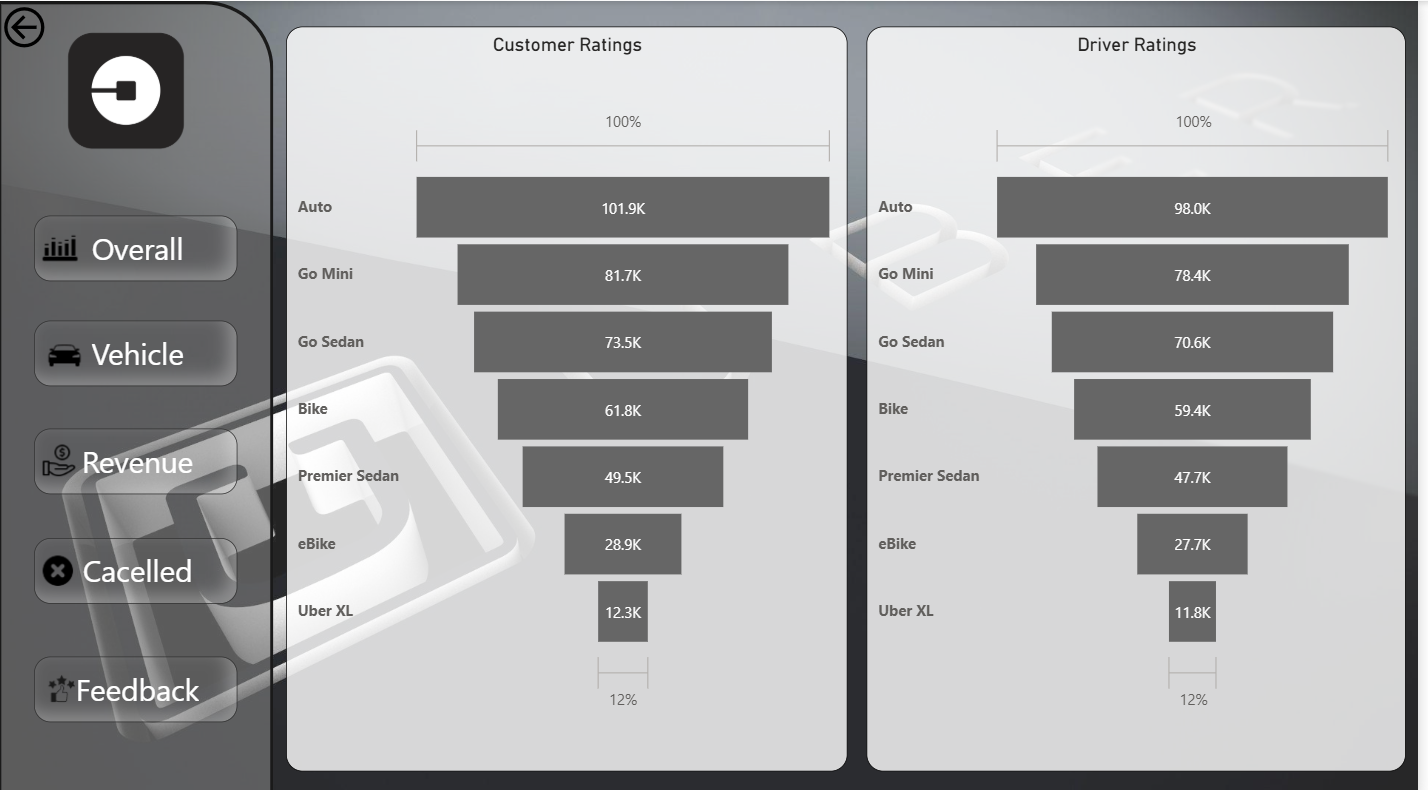

This screenshot's page, from the dashboard's own definition file:
{"tool":"powerbi","page":{"name":"Feedback","canvas":[1280,720],"ordinal":5},"visuals":[{"type":"shape","box":[0,0,248.3,719.2],"z":0},{"type":"image","box":[0,16.7,230.2,128.7],"z":1000},{"type":"actionButton","box":[31.8,193.8,183.2,59.1],"z":2000},{"type":"actionButton","box":[31.8,484.5,183.2,59.1],"z":3000},{"type":"actionButton","box":[31.8,287.7,183.2,59.1],"z":4000},{"type":"actionButton","box":[31.8,384.6,183.2,59.1],"z":5000},{"type":"actionButton","box":[31.8,590.5,183.2,59.1],"z":6000},{"type":"funnel","title":"Customer Ratings","fields":{"Y":["Sum(ncr_ride_bookings.Customer Rating)"],"Category":["ncr_ride_bookings.Vehicle Type"]},"box":[259.9,22.9,506,671.1],"z":7000},{"type":"funnel","title":"Driver Ratings","fields":{"Category":["ncr_ride_bookings.Vehicle Type"],"Y":["Sum(ncr_ride_bookings.Driver Ratings)"]},"box":[782.7,22.9,486.1,671.1],"z":8000},{"type":"actionButton","box":[0,0,114.7,47.4],"z":9000}]}

Visuals, with their boxes on the page's 1280x720 design canvas (x1, y1, x2, y2). These are canvas units, not pixel positions in the 1428x790 screenshot, which may show the page scaled, cropped or inside an application window:
shape: <bbox>0, 0, 248, 719</bbox>
image: <bbox>0, 17, 230, 145</bbox>
actionButton: <bbox>32, 194, 215, 253</bbox>
actionButton: <bbox>32, 484, 215, 544</bbox>
actionButton: <bbox>32, 288, 215, 347</bbox>
actionButton: <bbox>32, 385, 215, 444</bbox>
actionButton: <bbox>32, 590, 215, 650</bbox>
"Customer Ratings" funnel: <bbox>260, 23, 766, 694</bbox>
"Driver Ratings" funnel: <bbox>783, 23, 1269, 694</bbox>
actionButton: <bbox>0, 0, 115, 47</bbox>
